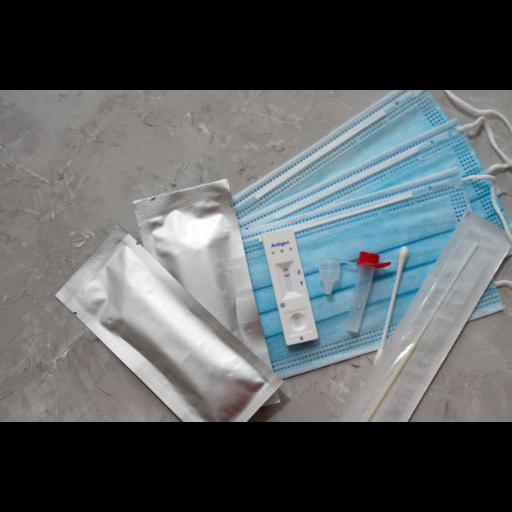Neg: (262, 228, 319, 344)
